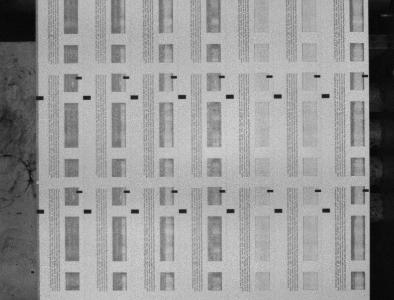backgroundclutter: (31, 271, 35, 274), (36, 181, 39, 184)
qblock: (322, 208, 331, 213), (84, 209, 92, 214), (37, 209, 45, 214), (83, 95, 91, 100), (226, 94, 234, 99), (130, 95, 139, 99), (131, 209, 139, 213), (36, 96, 44, 100), (275, 209, 283, 213), (274, 94, 282, 98), (178, 95, 186, 99), (179, 209, 187, 213), (227, 209, 235, 213), (322, 94, 330, 98)
smallqblock: (363, 74, 369, 78), (76, 76, 82, 80), (171, 75, 177, 79), (267, 189, 274, 192), (315, 189, 322, 192), (363, 189, 370, 192), (76, 190, 83, 193), (123, 76, 130, 79), (124, 190, 130, 193), (220, 190, 226, 193), (267, 75, 273, 78), (172, 190, 178, 193), (315, 75, 321, 78), (219, 75, 225, 78)
